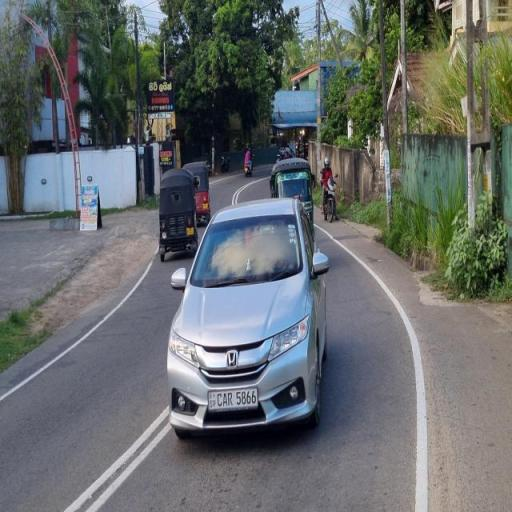double_white_line: (0, 256, 151, 402), (64, 403, 170, 512)
